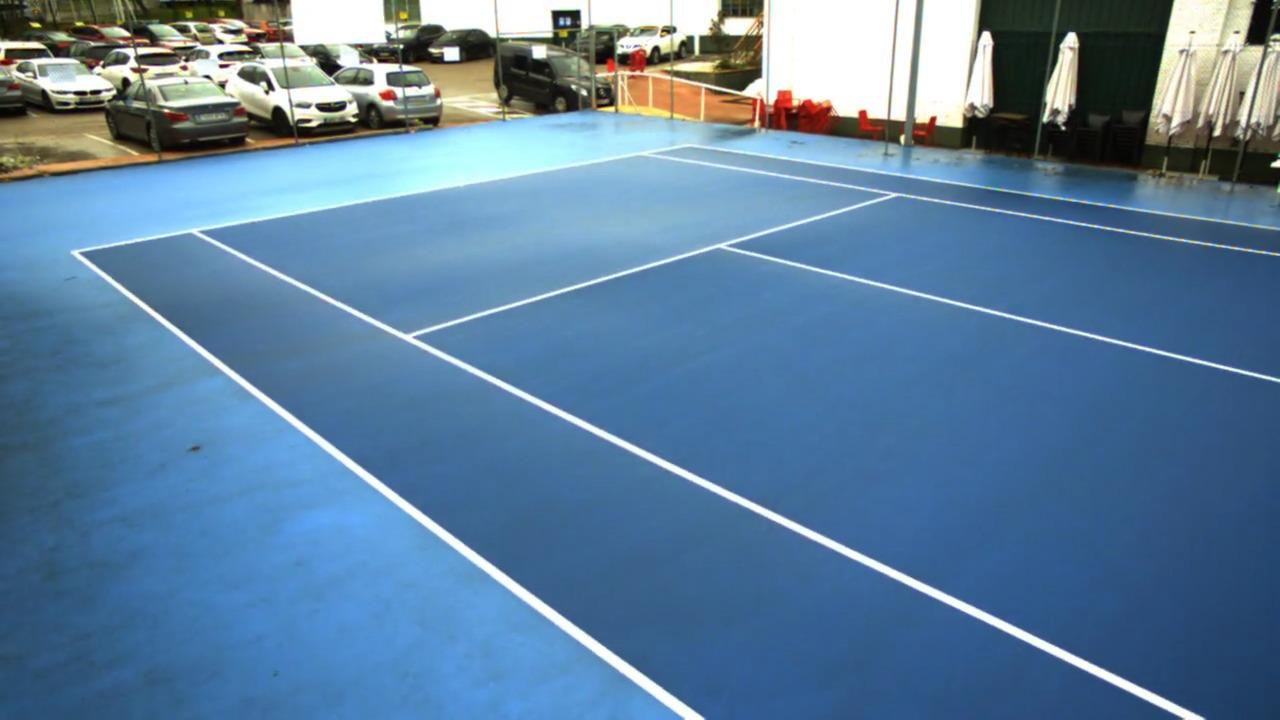cancha_tenis: (192, 149, 1280, 720)
point_f1: (179, 216, 215, 242)
point_f2: (625, 144, 661, 164)
point_fc1: (452, 173, 482, 193)
point_i1: (385, 321, 432, 352)
point_i2: (872, 182, 908, 205)
point_ic1: (705, 234, 742, 260)
